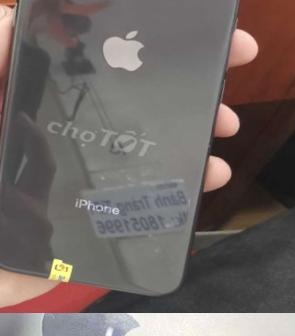physical_damage: (0, 313, 163, 336)
